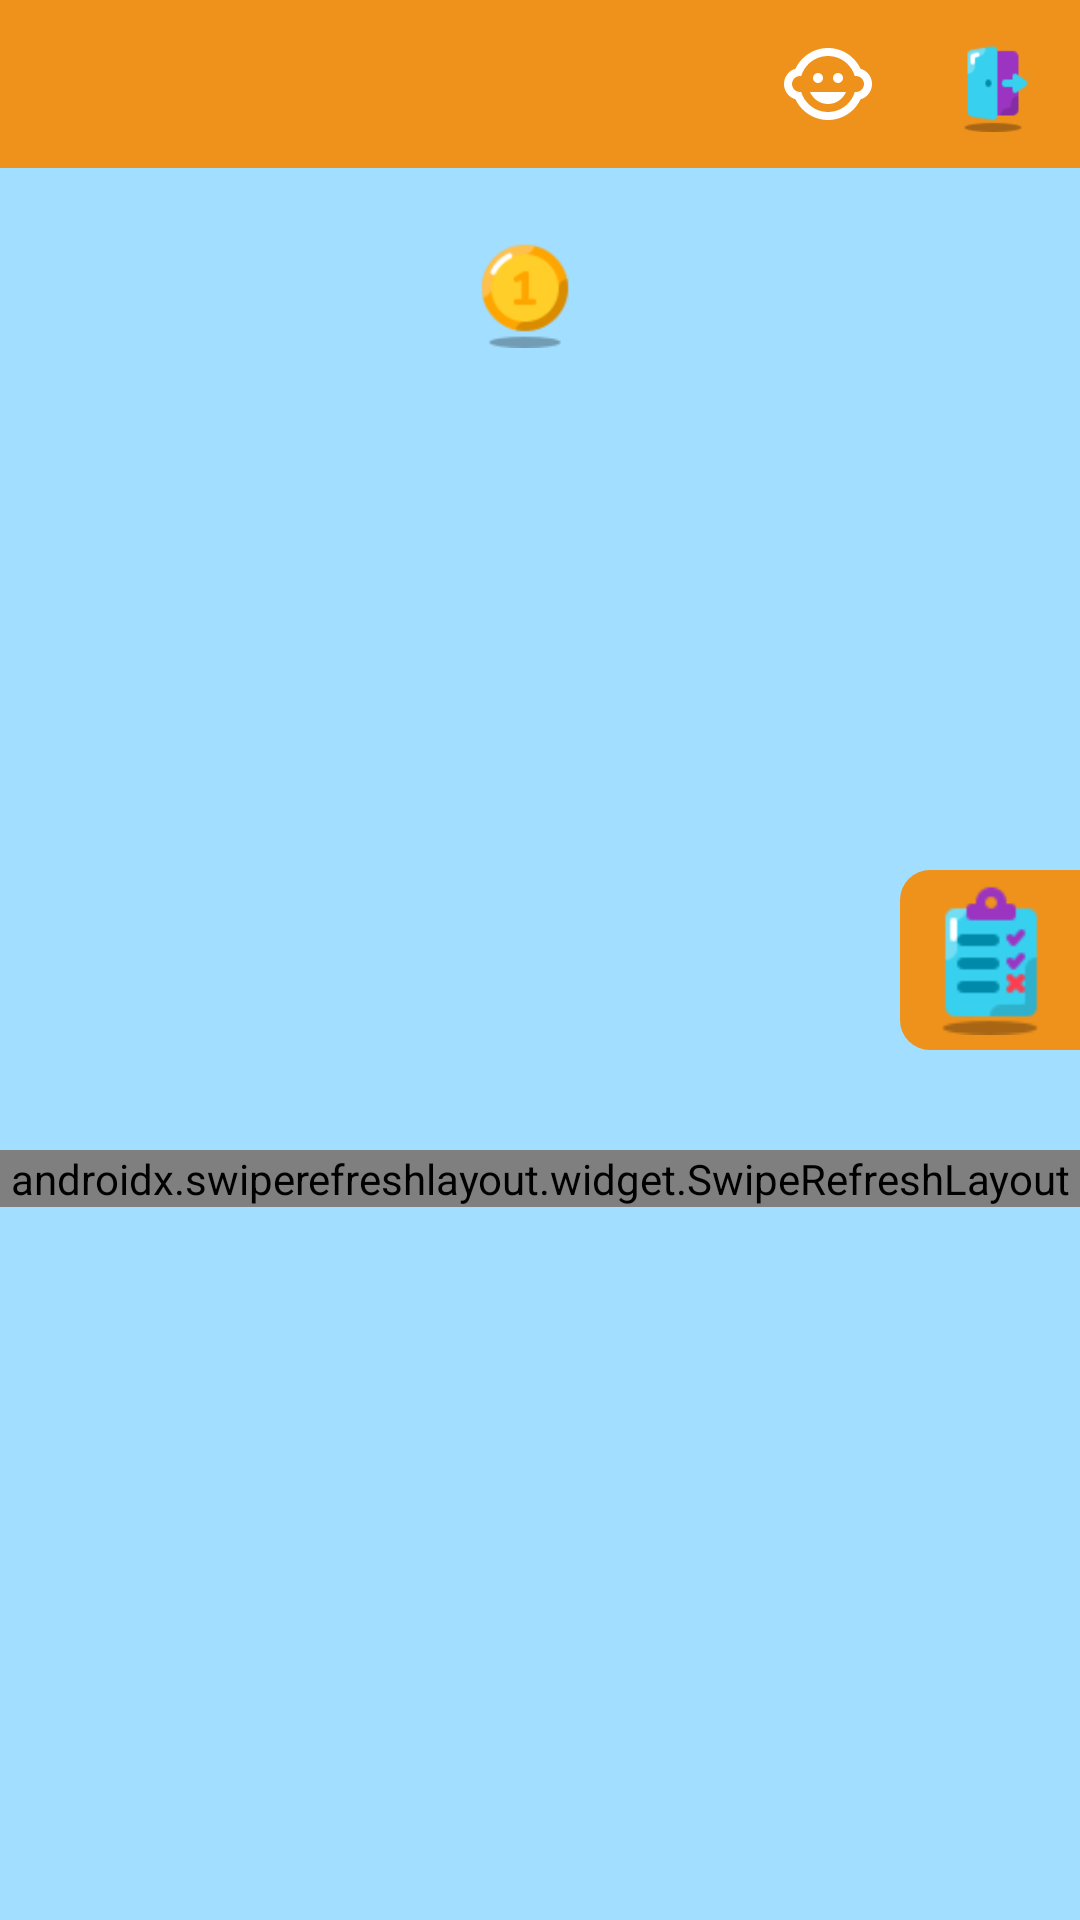

Icon click points for this 1080px×1920px phone screenshot, format (x,y):
coin: (525,296)
goals: (990,960)
